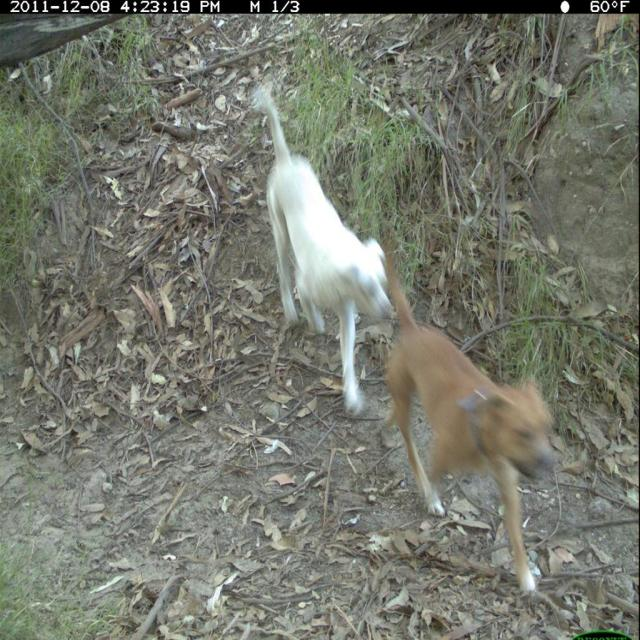dog: (374, 231, 565, 598), (234, 68, 392, 446)
